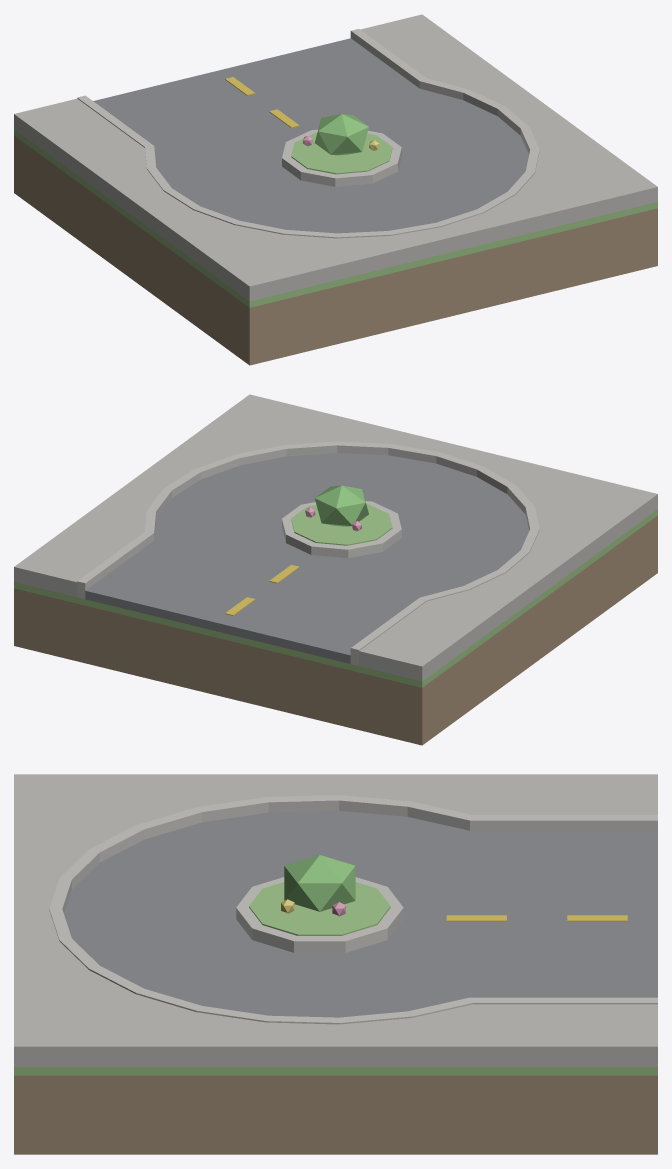
Rendered from ruas__asfalto_ponta.glb.
The picture shows the model from 3 angles, top to bottom: view 1: azimuth 30°, elevation 25°; view 2: azimuth 150°, elevation 25°; view 3: azimuth 270°, elevation 25°; orthographic projection. The views are drawn at different scales.
Visible parts, largest first — view 1: ruas__asfalto_ponta; view 2: ruas__asfalto_ponta; view 3: ruas__asfalto_ponta.
Boxes of the visible parts, box(x1,y1,x2,y2) form: ruas__asfalto_ponta: box(14, 14, 657, 365); ruas__asfalto_ponta: box(14, 394, 657, 745); ruas__asfalto_ponta: box(14, 774, 657, 1154).
Size of the model in its own units: 2 by 0.5605 by 2.
